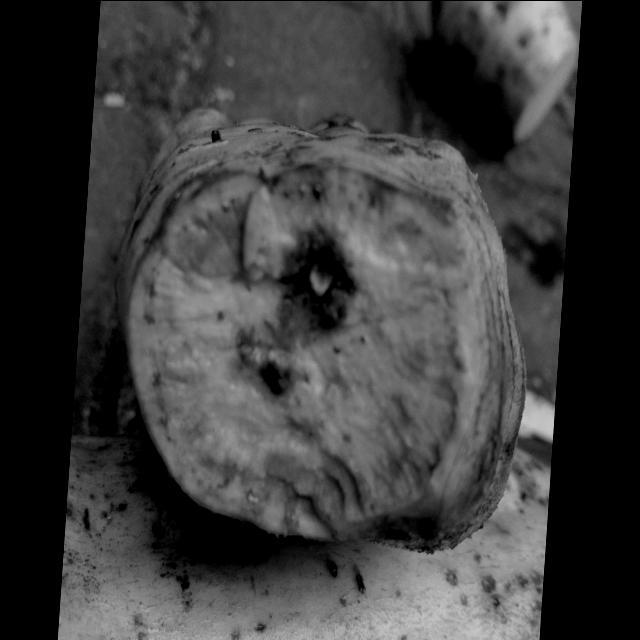Sick Sweet Potato_Tuber Rot: (151, 178, 461, 528)
